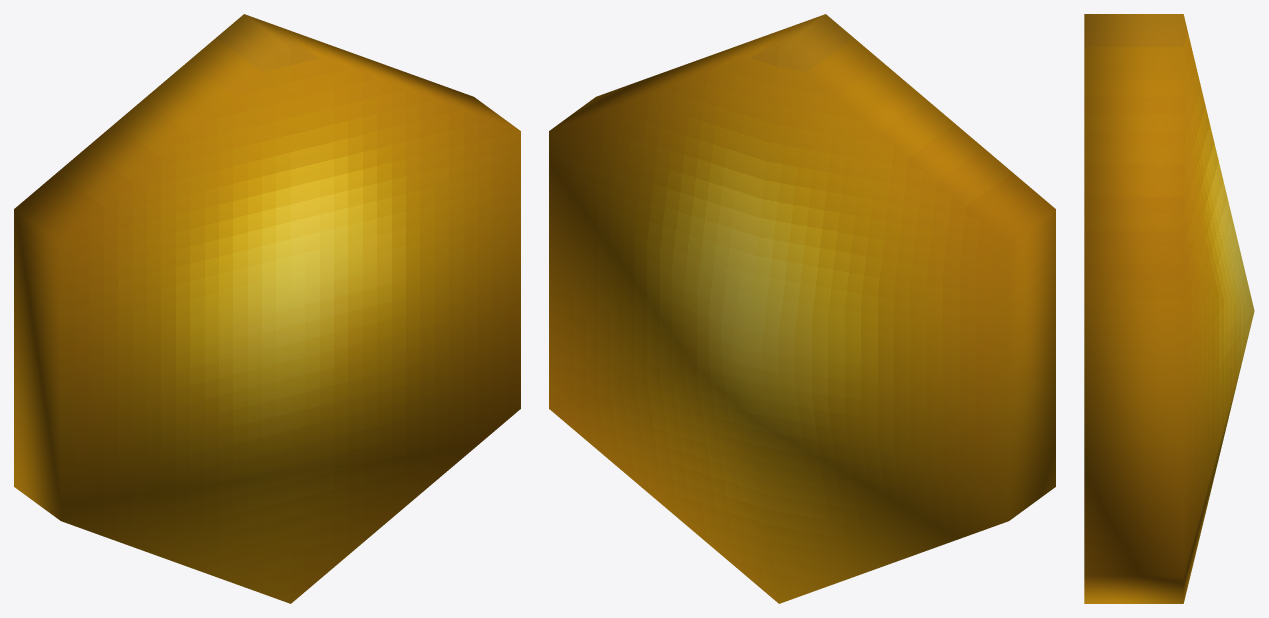
Rendered from Carni_Bell.FBX.
3 renders of one model, left to right at view 1: azimuth 30°, elevation 25°; view 2: azimuth 150°, elevation 25°; view 3: azimuth 270°, elevation 25°, orthographic. The views are drawn at different scales.
Parts seen in each view (by area): view 1: Object21; view 2: Object21; view 3: Object21.
Boxes of the visible parts, x1,y1,x2,y2 form: Object21: [14, 14, 520, 603]; Object21: [549, 14, 1055, 603]; Object21: [1084, 14, 1254, 603].
Bounding box in the file's own units: 98.88 × 114 × 29.85.
